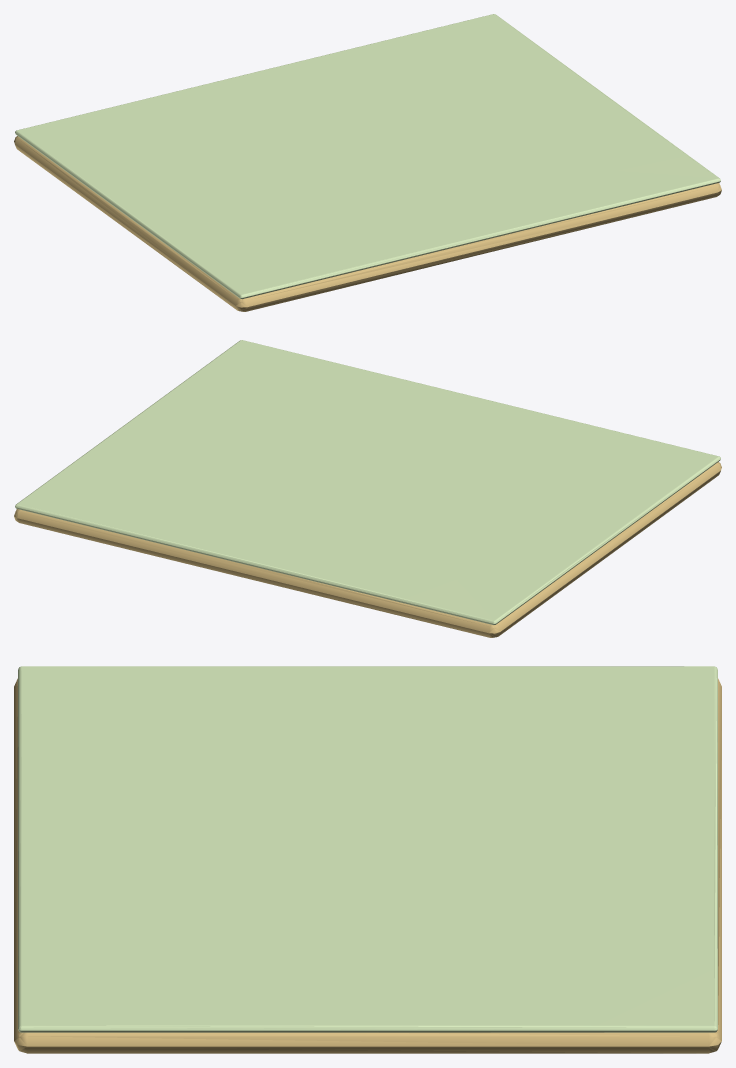
File: DW_Island_0.fbx
3 renders of one model, top to bottom at view 1: azimuth 30°, elevation 25°; view 2: azimuth 150°, elevation 25°; view 3: azimuth 270°, elevation 25°, orthographic. The views are drawn at different scales.
Visible parts, largest first — view 1: Island_0; view 2: Island_0; view 3: Island_0.
Part boxes in pixels (x1,y1,x2,y2): Island_0: [14, 14, 721, 311]; Island_0: [14, 340, 721, 637]; Island_0: [14, 666, 721, 1053].
Bounding box in the file's own units: 22 × 0.84 × 18.
